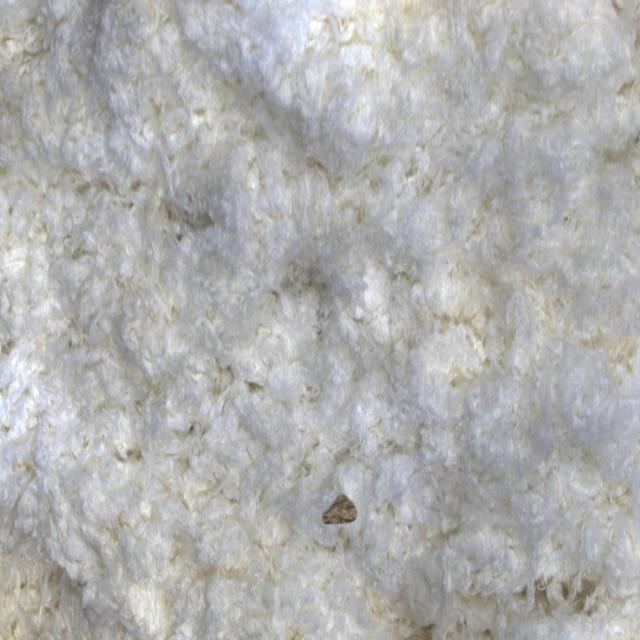dust: (306, 467, 381, 560)
